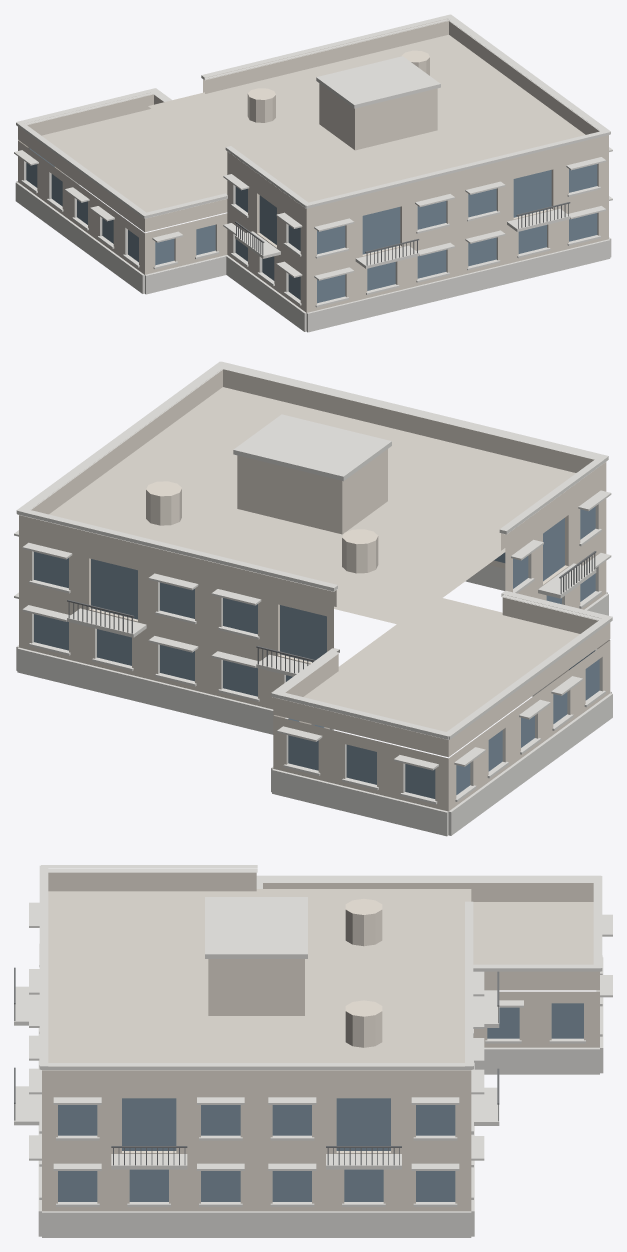
File: Walled_Residence.fbx
The picture shows the model from 3 angles, top to bottom: view 1: azimuth 30°, elevation 25°; view 2: azimuth 150°, elevation 25°; view 3: azimuth 270°, elevation 25°; orthographic projection. The views are drawn at different scales.
Parts seen in each view (by area): view 1: Walled_Residence; view 2: Walled_Residence; view 3: Walled_Residence.
Part boxes in pixels (x1,y1,x2,y2): Walled_Residence: (14, 14, 612, 332); Walled_Residence: (14, 361, 612, 836); Walled_Residence: (14, 865, 612, 1237).
Size of the model in its own units: 29.9 by 10.85 by 27.9.
